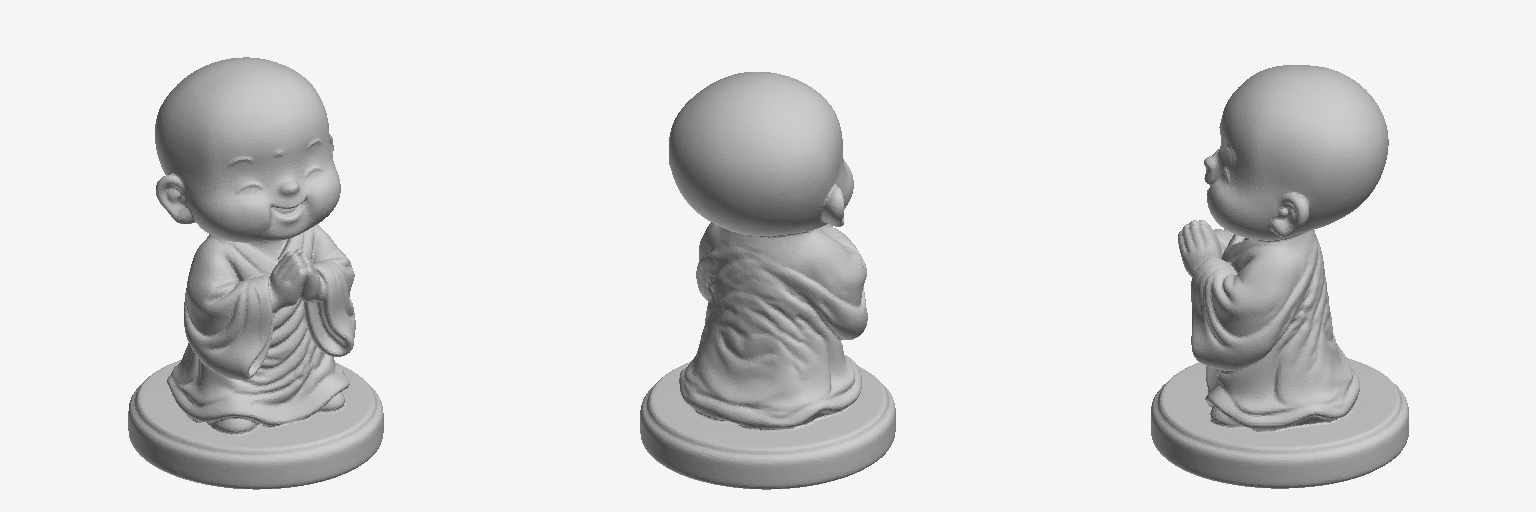
The model's file is cmix1l43a002gi0nm1vcp5ssc.obj.
The picture shows the model from 3 angles: view 1: azimuth 30°, elevation 25°; view 2: azimuth 150°, elevation 25°; view 3: azimuth 270°, elevation 25°; orthographic projection.
Parts seen in each view (by area): view 1: material; view 2: material; view 3: material.
Boxes of the visible parts, x1,y1,x2,y2 form: material: [128, 57, 383, 489]; material: [640, 72, 895, 489]; material: [1151, 65, 1408, 488].
Bounding box in the file's own units: 0.6484 × 1.02 × 0.6597.